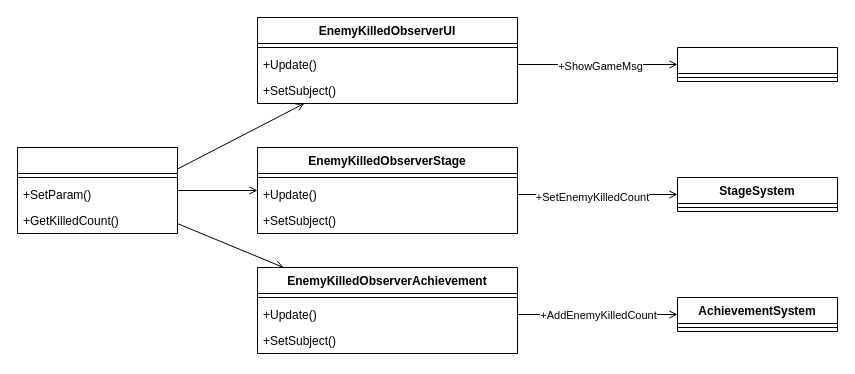
Image size: 855x374. Some labels were removed from this diagram. The box of each missing label's shape, as (x1, y1, x2, y2) in pixels:
EnemyKilledSubject: (16, 146, 178, 234)
PBaseDefenseGame: (676, 46, 838, 82)
